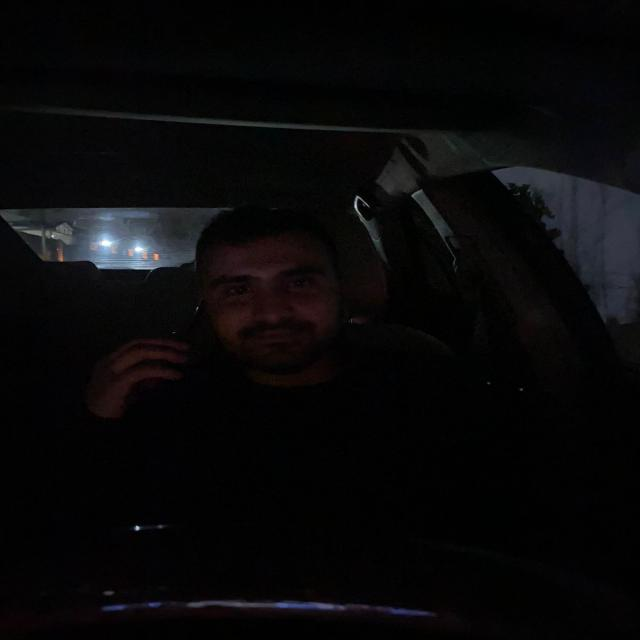mobile: (135, 302, 210, 362)
person: (190, 204, 357, 373)
